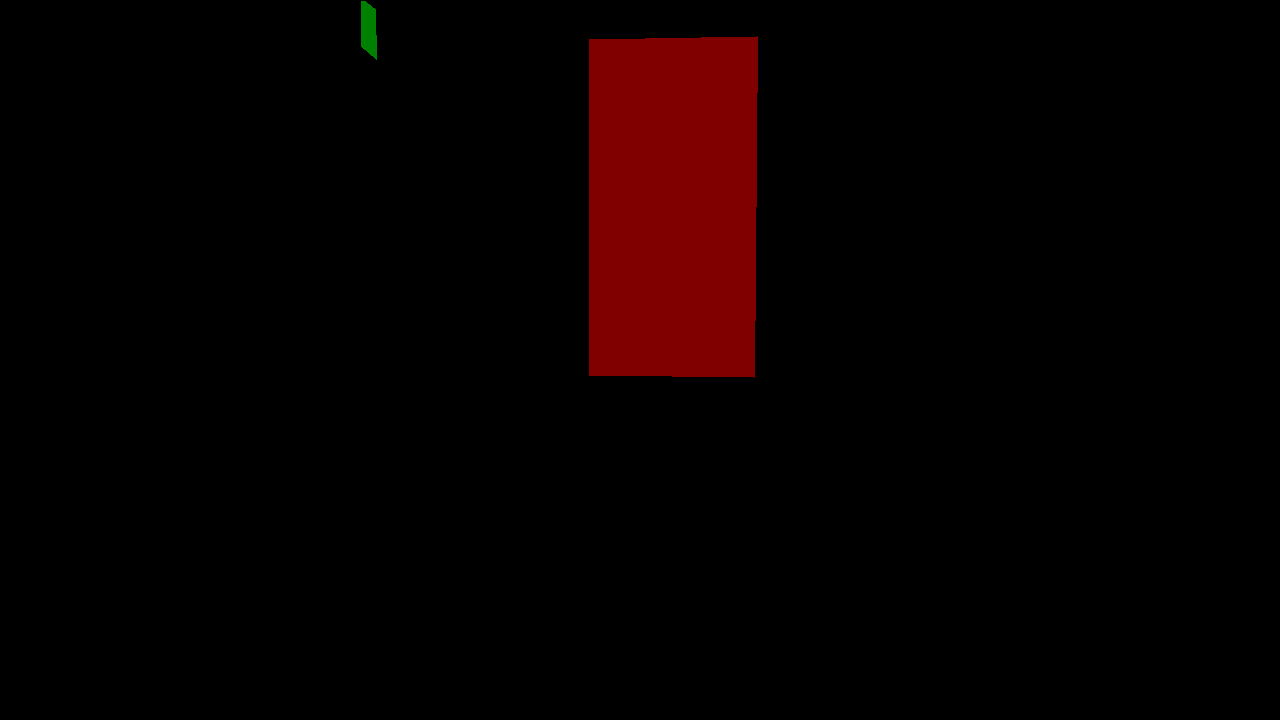door: (589, 36, 757, 377)
sign: (361, 1, 376, 59)
